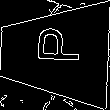P_W: (28, 34, 81, 73)
